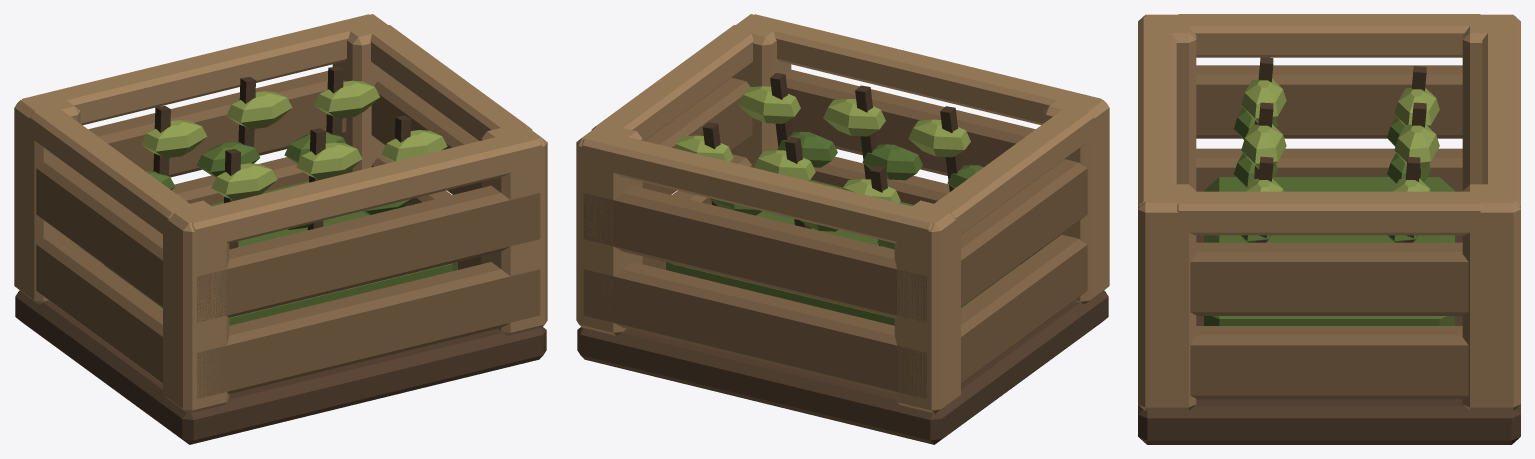
Rendered from hops_cutting_half.glb.
3 views of the same model, side by side, from view 1: azimuth 30°, elevation 25°; view 2: azimuth 150°, elevation 25°; view 3: azimuth 270°, elevation 25° (orthographic). The views are drawn at different scales.
Visible parts, largest first — view 1: hops_cutting_half; view 2: hops_cutting_half; view 3: hops_cutting_half.
Part boxes in pixels (left/top/right/bottom): hops_cutting_half: left=14, top=14, right=547, bottom=444; hops_cutting_half: left=576, top=14, right=1109, bottom=444; hops_cutting_half: left=1138, top=14, right=1520, bottom=444.
Size of the model in its own units: 0.75 by 0.4526 by 0.625.
